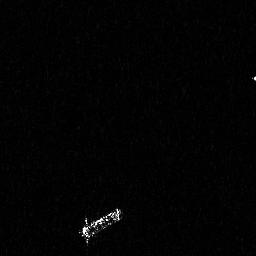ship: (76, 204, 124, 249)
